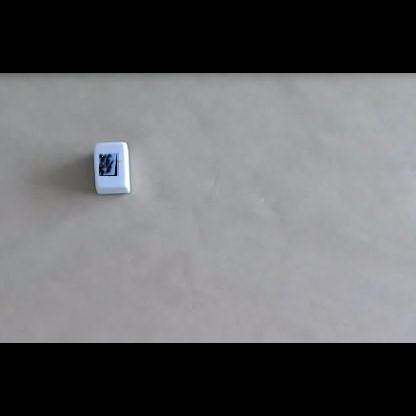6z: (100, 153, 122, 176)
